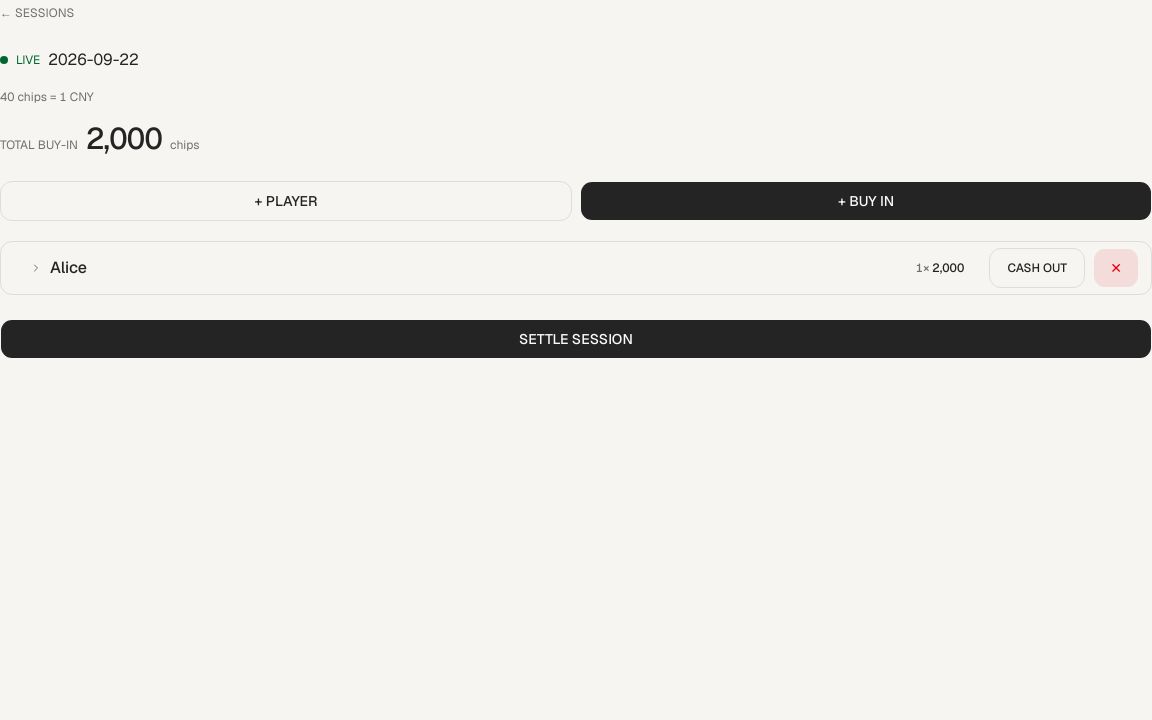
keeps failed removal in its confirmation and restores actions after retry
Step 1. Click the button named "remove player" → point(1116, 268), box [1093,248,1139,288]
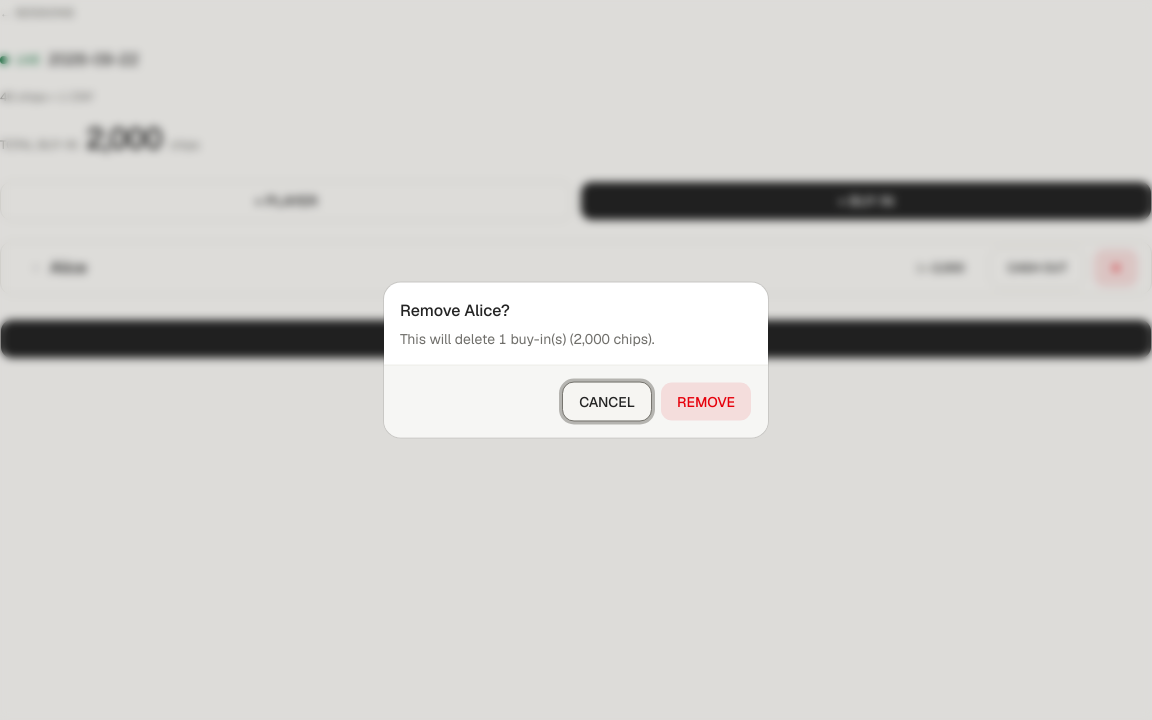
Step 2. Click the button "REMOVE" → point(706, 402), box [660,382,752,422]
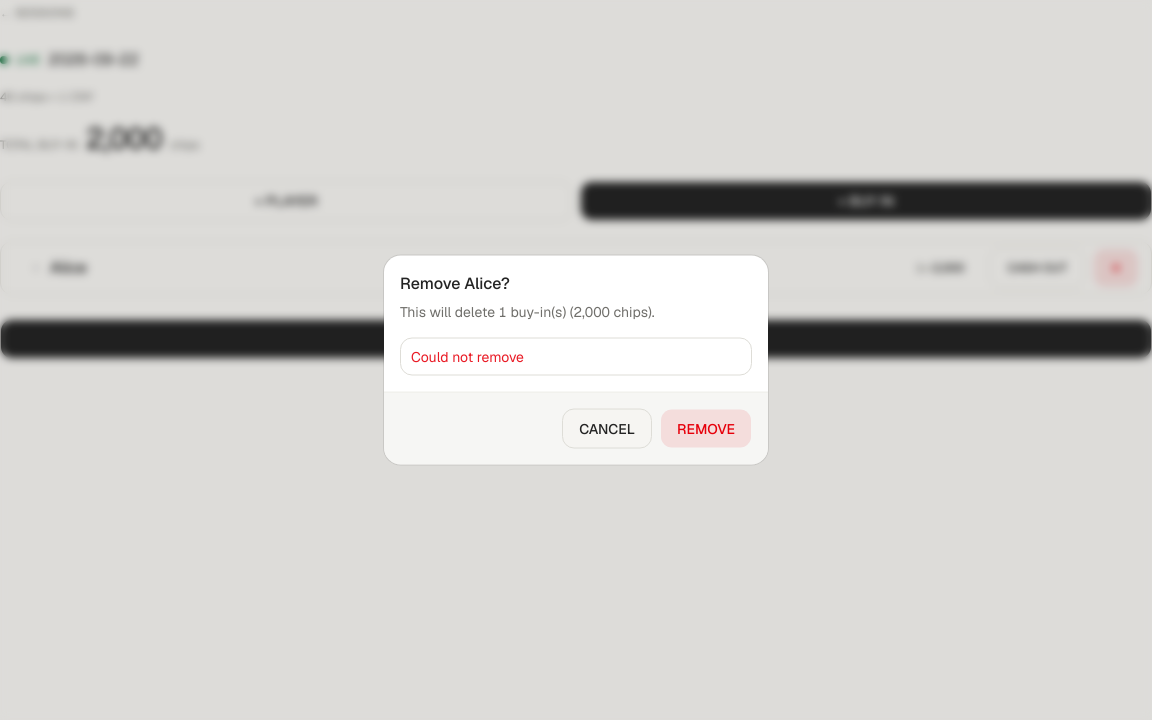
Check: the dialog is shown, box [384,256,768,464]
Check: the text "Could not remove" is shown, box [411,348,524,366]
Step 3. Click the button "REMOVE" → point(706, 428), box [660,408,752,448]
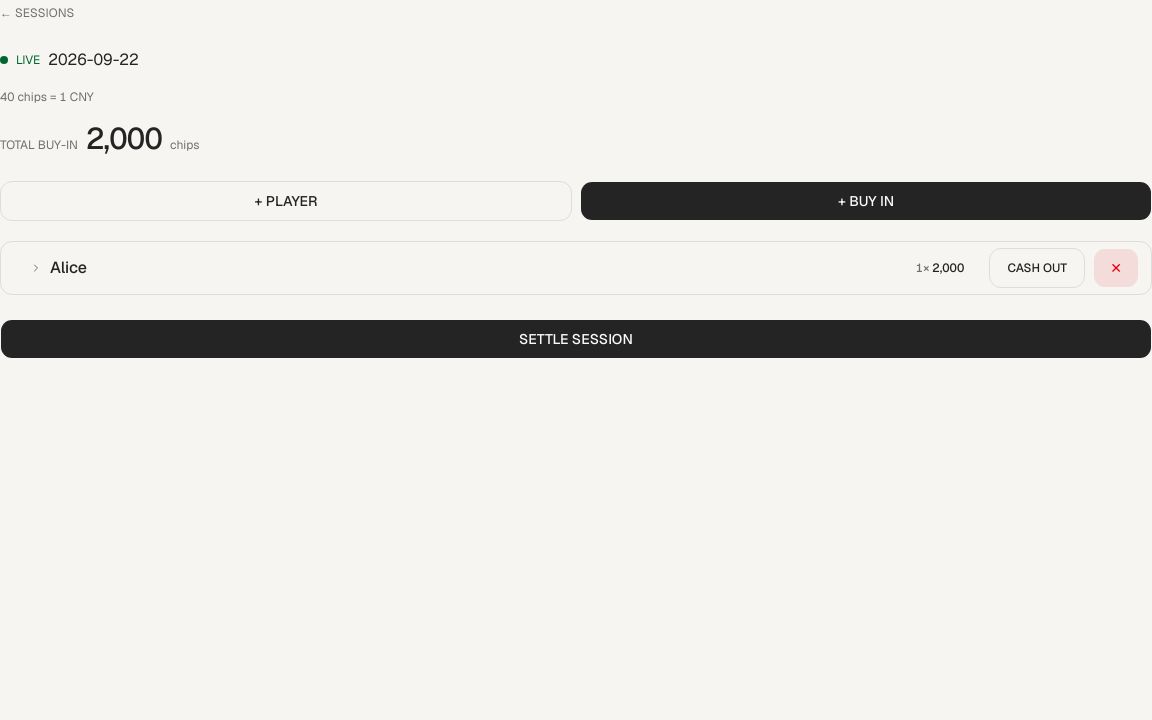
Check: the button "SETTLE SESSION" is enabled, box [0,319,1151,359]
Check: the dialog is gone
